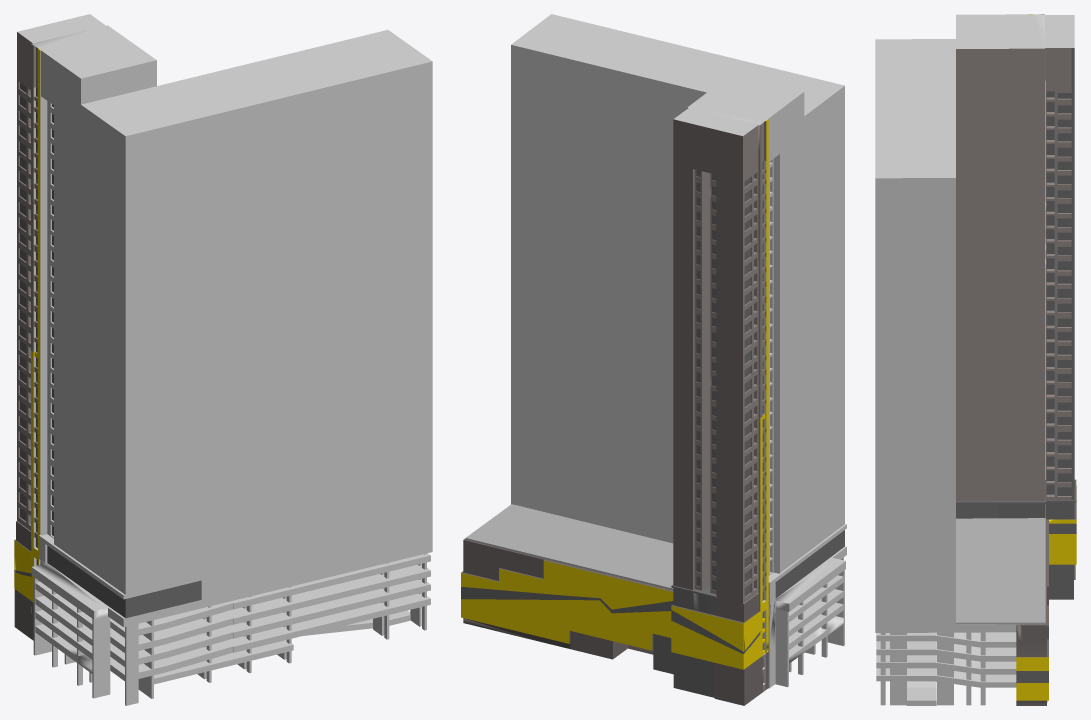
The model's file is demo.glb.
3 renders of one model, left to right at view 1: azimuth 30°, elevation 25°; view 2: azimuth 150°, elevation 25°; view 3: azimuth 270°, elevation 25°, orthographic. The views are drawn at different scales.
Visible parts, largest first — view 1: polySurface18; view 2: polySurface18; view 3: polySurface18.
Part boxes in pixels (box(x1,y1,x2,y2)): polySurface18: box(14, 14, 432, 705); polySurface18: box(461, 14, 846, 705); polySurface18: box(875, 14, 1076, 705).
Bounding box in the file's own units: 0.0469 × 0.082 × 0.0271.
